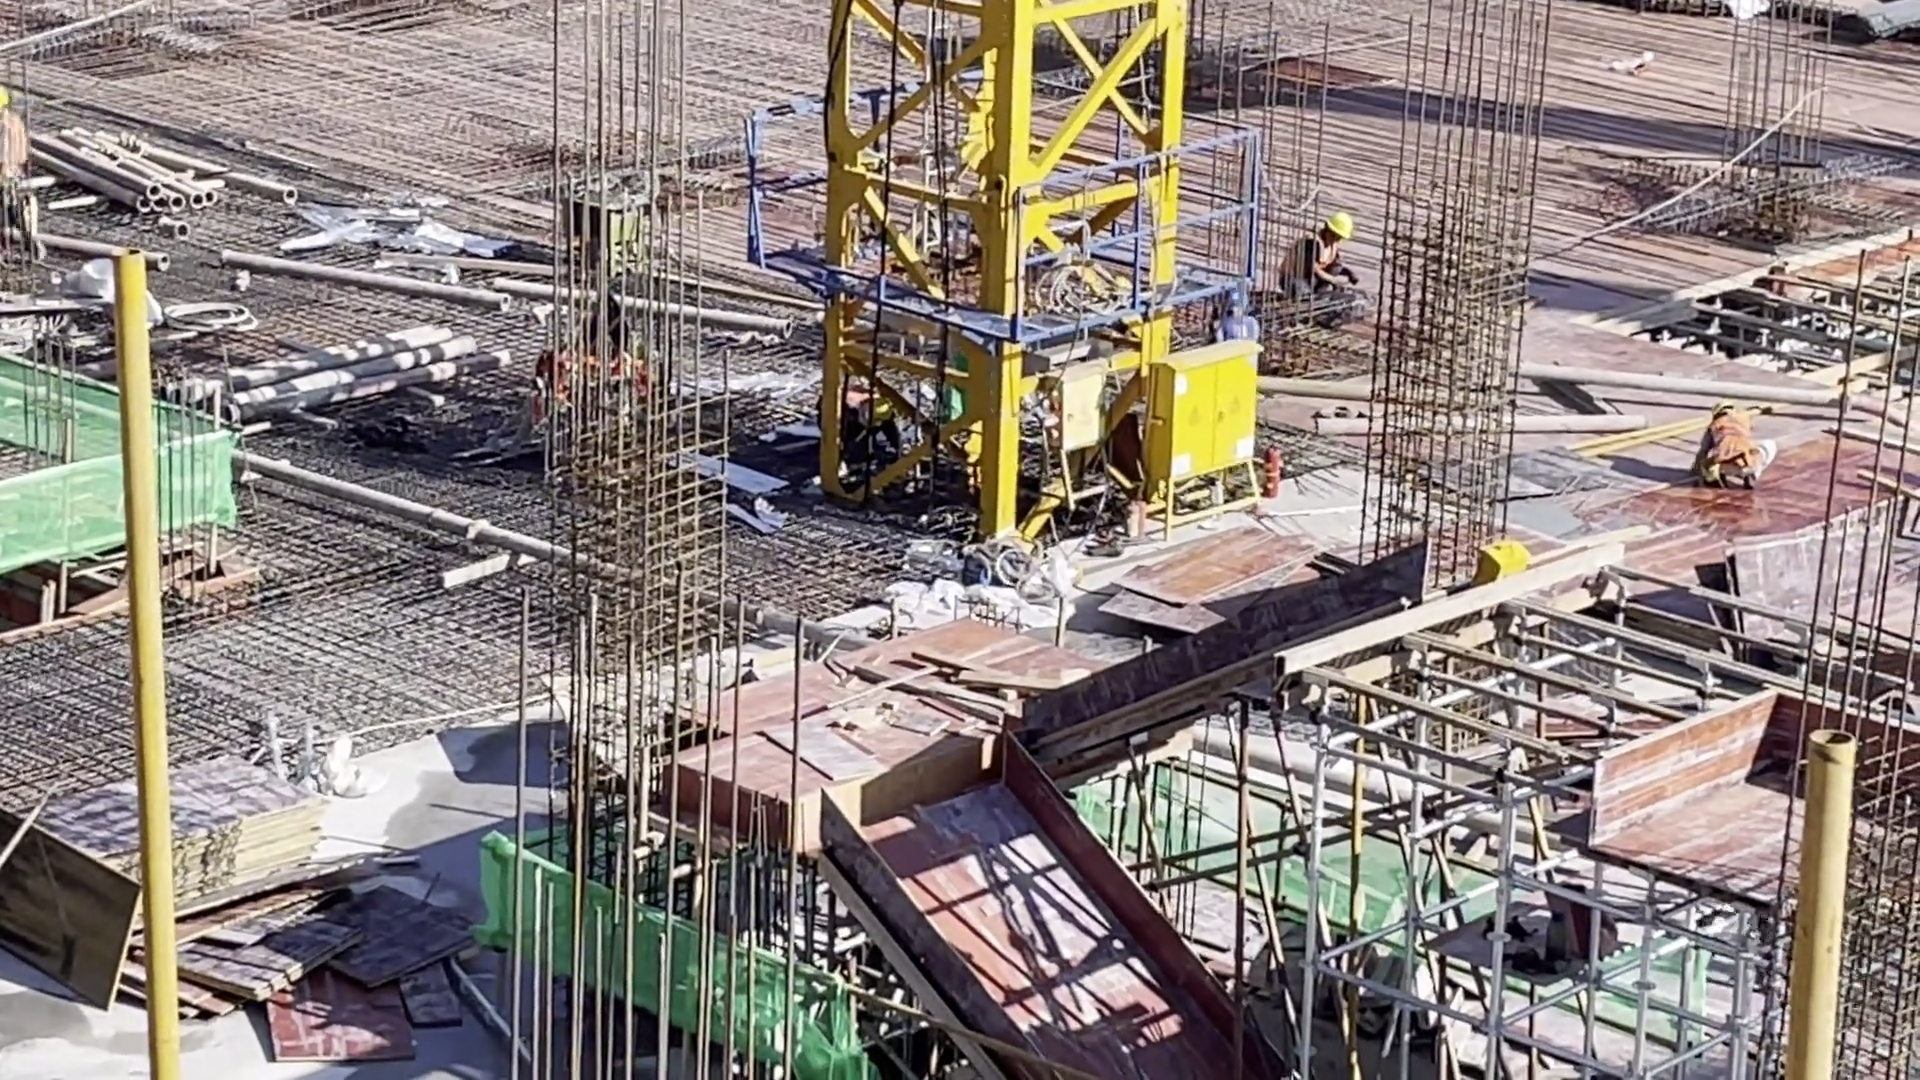board: (172, 894, 479, 1062), (30, 773, 333, 934)
ebox: (1152, 333, 1262, 530), (1046, 379, 1127, 558), (1470, 539, 1534, 587)
helmet: (1324, 211, 1353, 238), (1216, 289, 1249, 310)
person: (1282, 204, 1361, 307), (1694, 400, 1780, 489), (1, 81, 33, 245), (1203, 286, 1266, 343)
vest: (1706, 418, 1756, 473), (1, 110, 28, 190)
